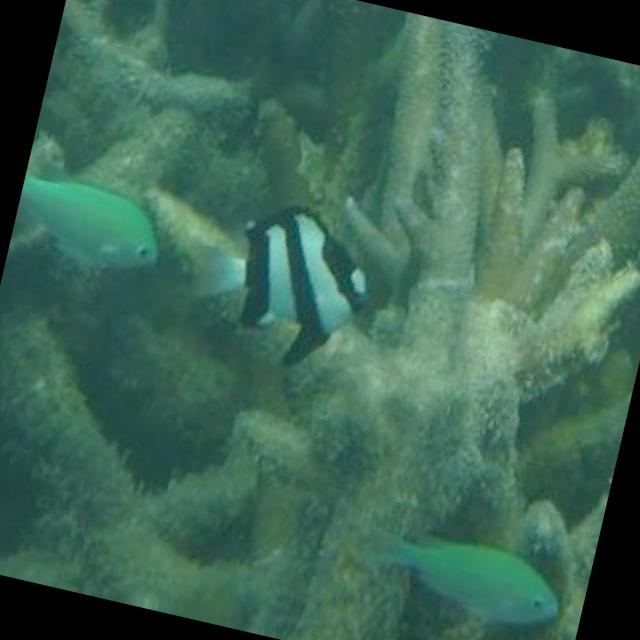Three_striped DasmselFish: (170, 182, 383, 383)
